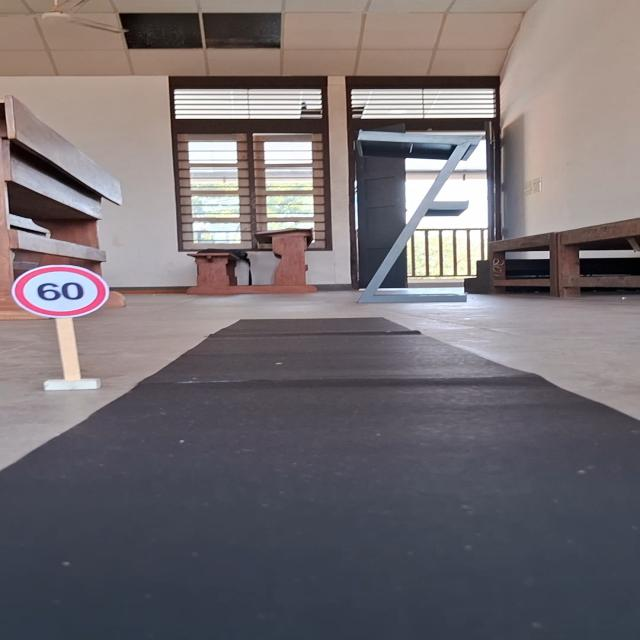Speed60: (7, 263, 114, 319)
